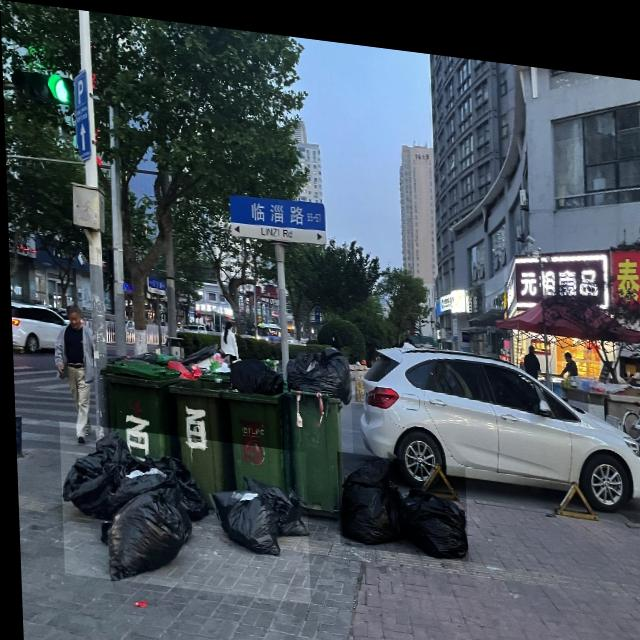garbage: (57, 420, 307, 597), (334, 443, 465, 550)
garbage_bin: (94, 350, 179, 459), (166, 368, 230, 506)
overflow: (279, 334, 352, 512), (218, 349, 287, 488)
